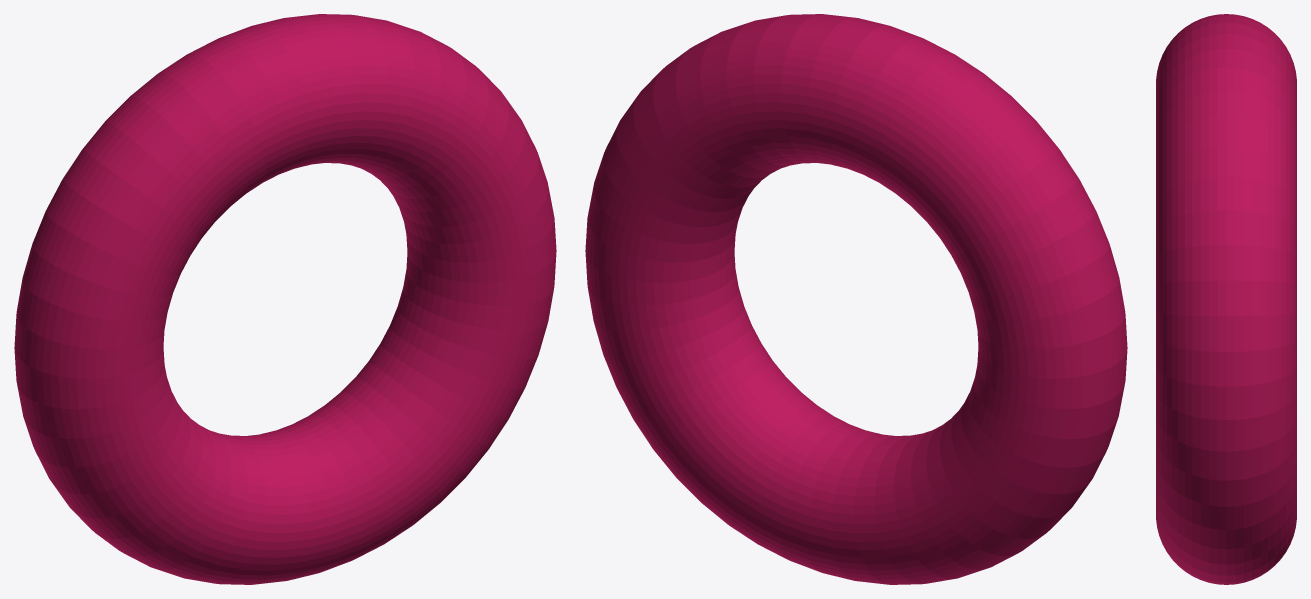
The picture shows the model from 3 angles, left to right: view 1: azimuth 30°, elevation 25°; view 2: azimuth 150°, elevation 25°; view 3: azimuth 270°, elevation 25°; orthographic projection. The views are drawn at different scales.
Visible parts, largest first — view 1: world; view 2: world; view 3: world.
Boxes of the visible parts, x1,y1,x2,y2 form: world: [14, 14, 556, 584]; world: [585, 14, 1127, 584]; world: [1156, 14, 1296, 584].
Size of the model in its own units: 37.2 by 37.13 by 9.18.
